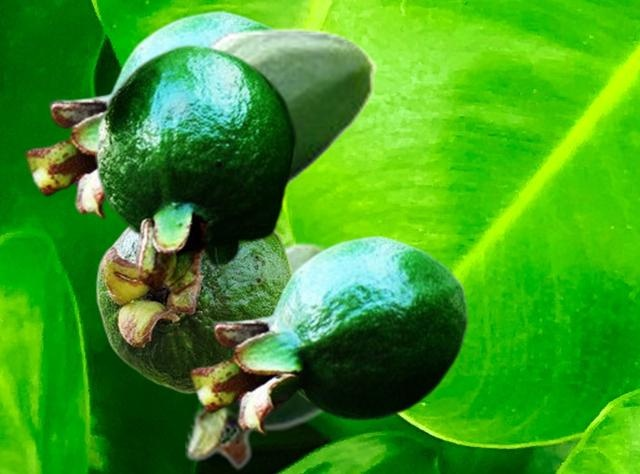guava: (189, 234, 468, 435), (24, 9, 277, 219), (95, 43, 297, 296), (95, 227, 294, 393), (185, 240, 328, 470), (205, 26, 377, 191)
